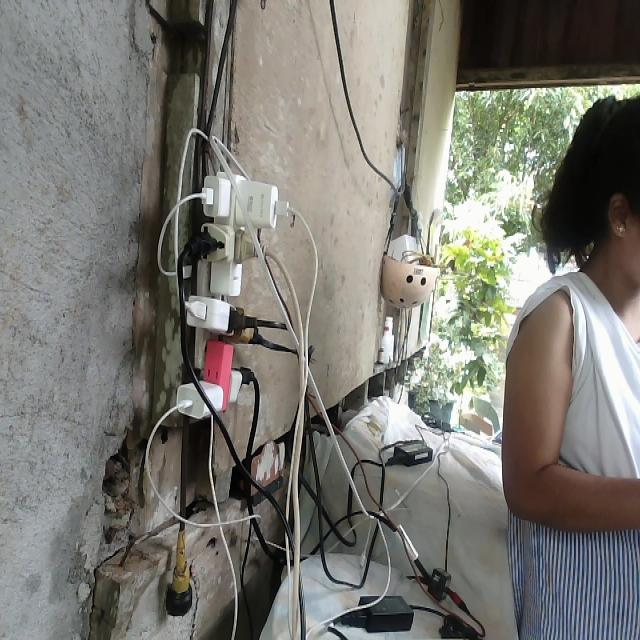-: (168, 167, 290, 416)
